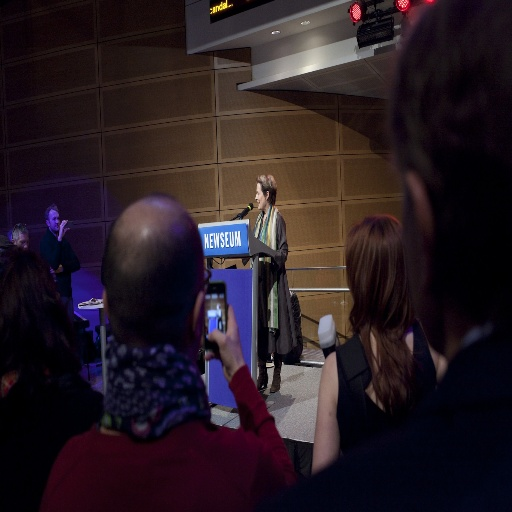hand: (203, 300, 243, 375), (58, 217, 70, 238)
